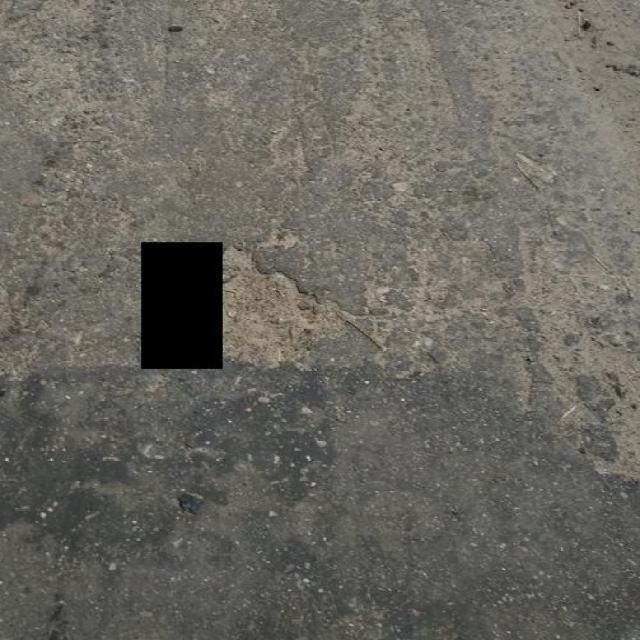road-pothole: (223, 243, 336, 371)
